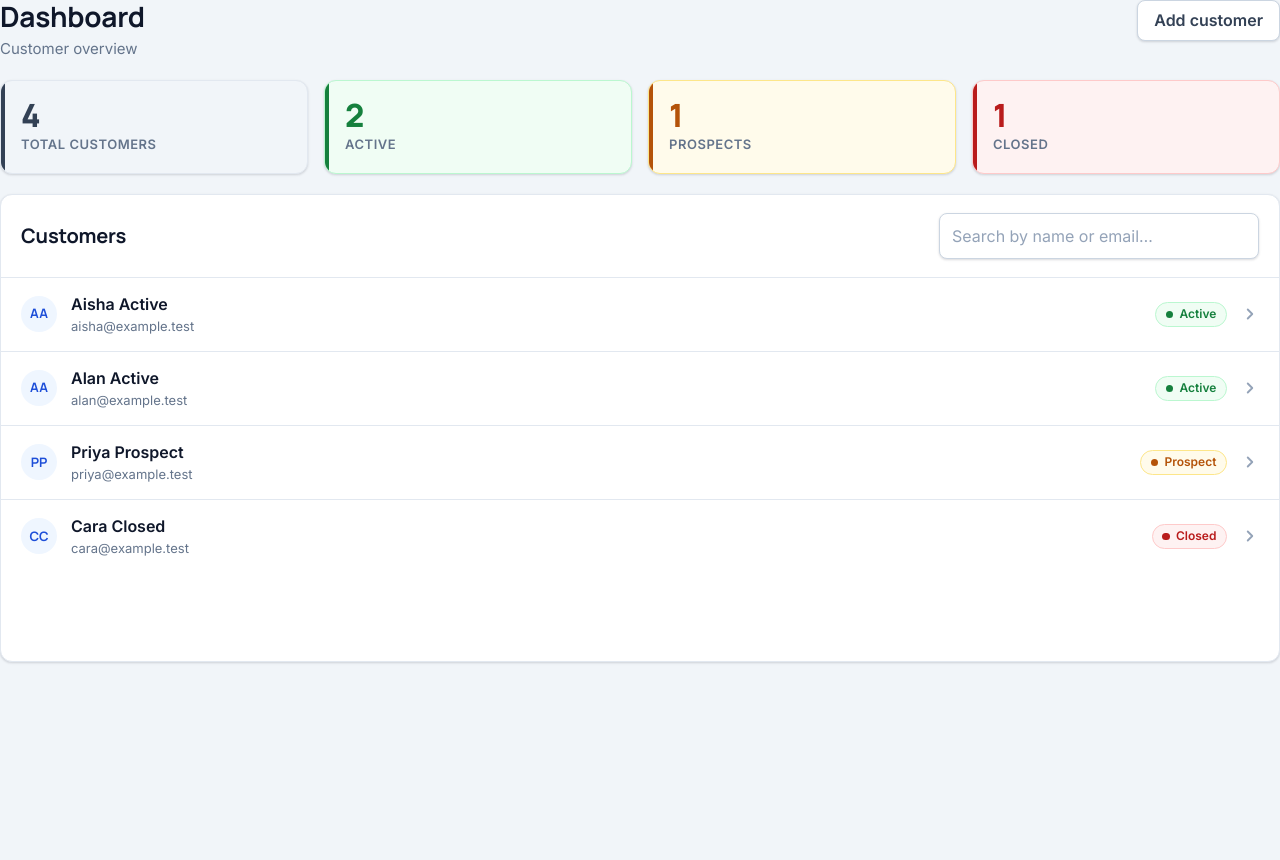
Test: Dashboard › reveals the new-customer form when "Add customer" is toggled
Expected: the list named "customer list" is shown, [1,278,1279,573]
Click the button "Add customer".
click(1209, 21)  # box [1137,0,1279,41]
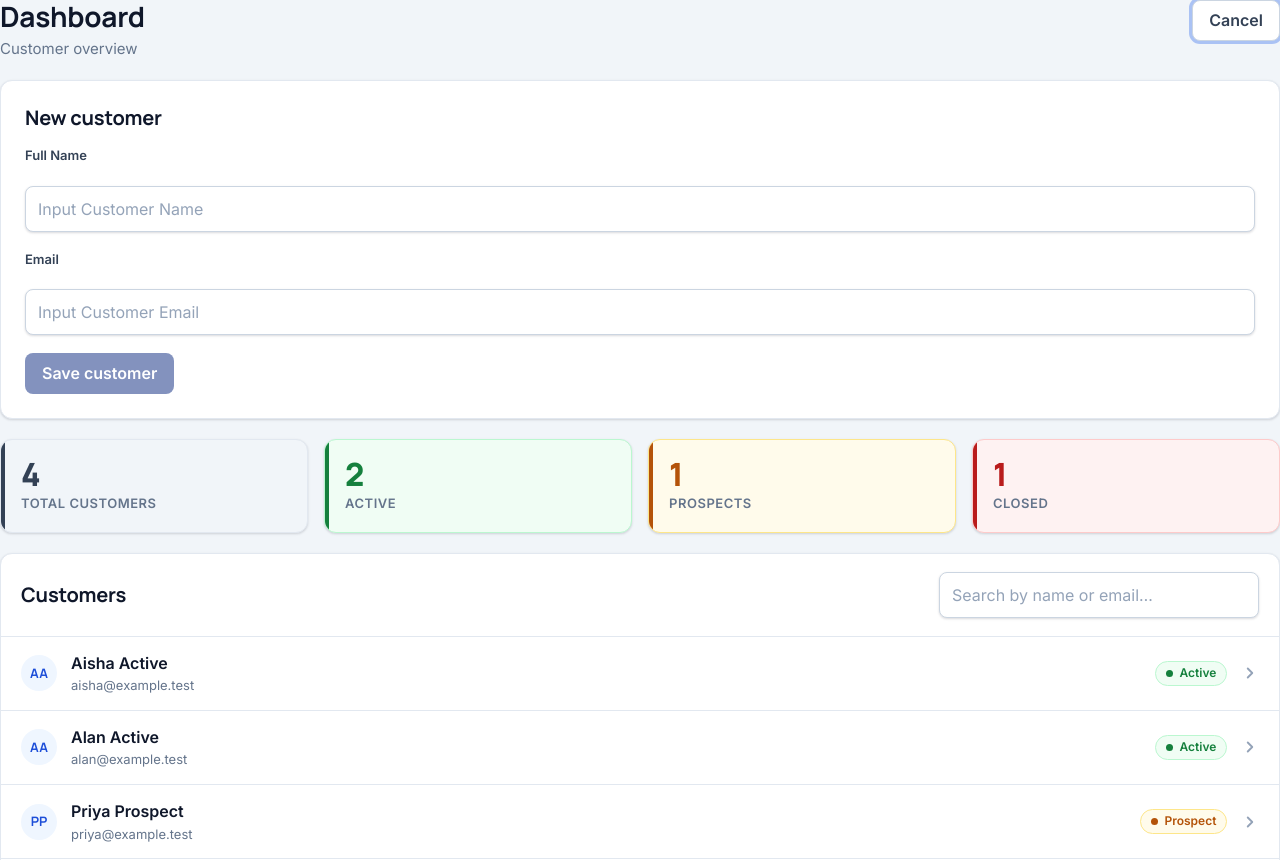
Expected: the form named "add customer" is shown, [25,146,1255,394]
